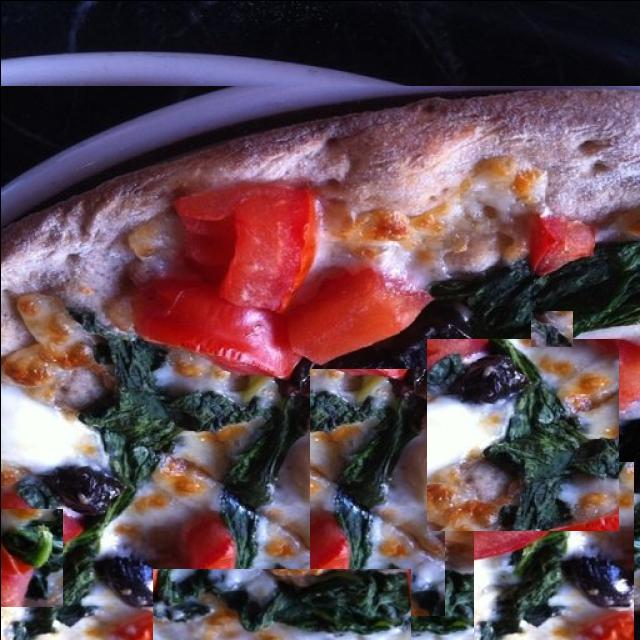basil: (0, 247, 314, 398), (426, 338, 618, 530), (309, 368, 444, 615), (473, 461, 633, 640), (152, 568, 410, 640), (0, 508, 62, 606), (0, 415, 79, 491), (530, 310, 572, 346), (0, 608, 46, 640)
pizza: (0, 85, 639, 639)
